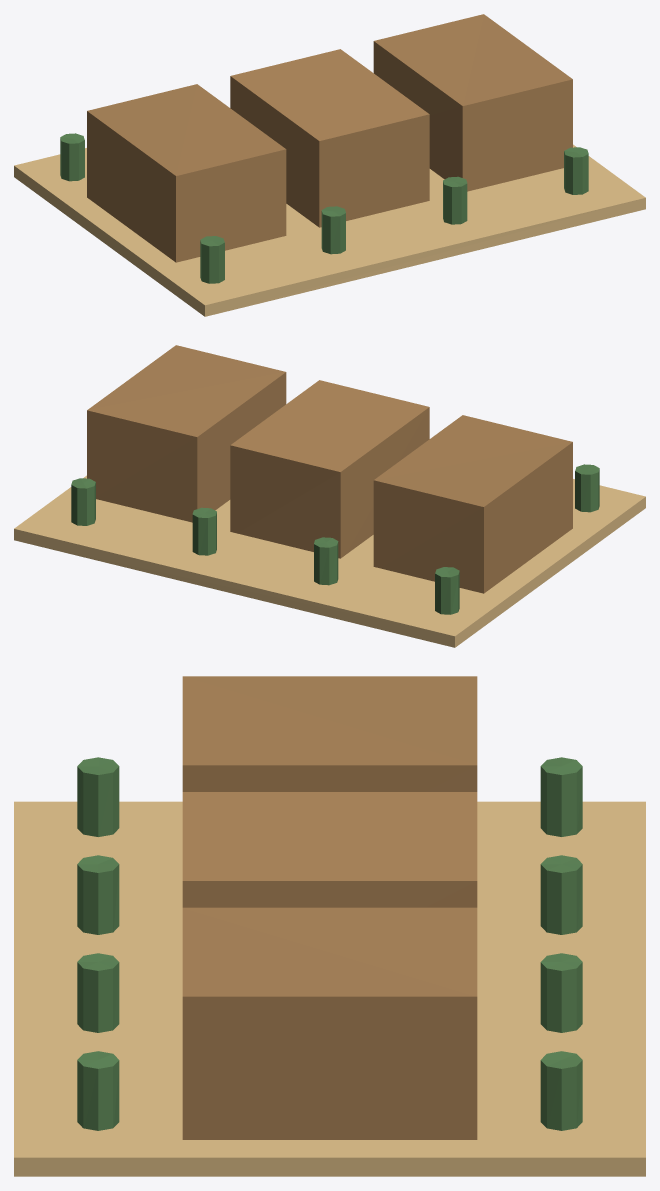
The model's file is Compost-ecosystem.glb.
3 views of the same model, one above another, from view 1: azimuth 30°, elevation 25°; view 2: azimuth 150°, elevation 25°; view 3: azimuth 270°, elevation 25° (orthographic). The views are drawn at different scales.
Visible parts, largest first — view 1: compost-ecosystem-static-compost-ecosystem-wood, compost-ecosystem-static-compost-ecosystem-earth, compost-ecosystem-static-compost-ecosystem-leaf; view 2: compost-ecosystem-static-compost-ecosystem-wood, compost-ecosystem-static-compost-ecosystem-earth, compost-ecosystem-static-compost-ecosystem-leaf; view 3: compost-ecosystem-static-compost-ecosystem-wood, compost-ecosystem-static-compost-ecosystem-earth, compost-ecosystem-static-compost-ecosystem-leaf.
Part boxes in pixels (left/top/right/bottom): compost-ecosystem-static-compost-ecosystem-wood: left=87, top=14, right=572, bottom=262; compost-ecosystem-static-compost-ecosystem-earth: left=14, top=144, right=645, bottom=316; compost-ecosystem-static-compost-ecosystem-leaf: left=60, top=133, right=588, bottom=283; compost-ecosystem-static-compost-ecosystem-wood: left=87, top=345, right=572, bottom=593; compost-ecosystem-static-compost-ecosystem-earth: left=14, top=475, right=645, bottom=647; compost-ecosystem-static-compost-ecosystem-leaf: left=71, top=464, right=599, bottom=614; compost-ecosystem-static-compost-ecosystem-wood: left=182, top=676, right=477, bottom=1139; compost-ecosystem-static-compost-ecosystem-earth: left=14, top=801, right=645, bottom=1176; compost-ecosystem-static-compost-ecosystem-leaf: left=77, top=757, right=582, bottom=1130.
Size of the model in its own units: 4 by 0.85 by 3.
